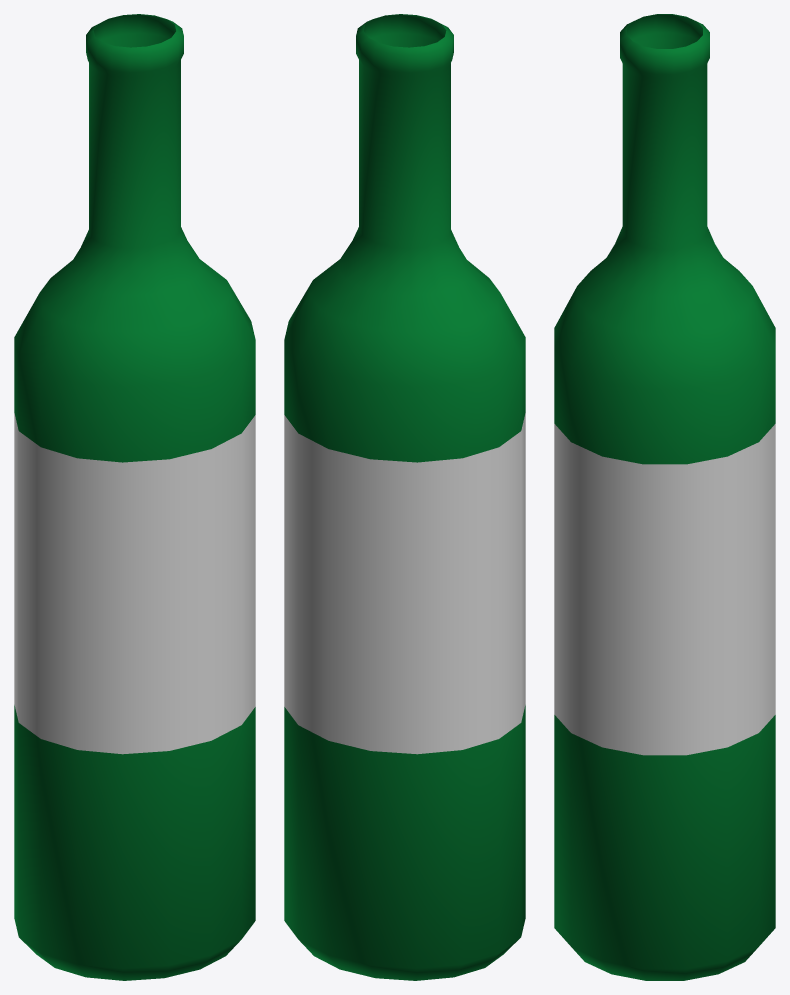
The model's file is botellavinoV2.fbx.
3 views of the same model, side by side, from view 1: azimuth 30°, elevation 25°; view 2: azimuth 150°, elevation 25°; view 3: azimuth 270°, elevation 25° (orthographic).
Visible parts, largest first — view 1: botellaVino; view 2: botellaVino; view 3: botellaVino.
Part boxes in pixels (<box>): botellaVino: <box>14,14,255,980</box>; botellaVino: <box>284,14,525,980</box>; botellaVino: <box>554,14,775,980</box>.
Bounding box in the file's own units: 214 × 896 × 196.
